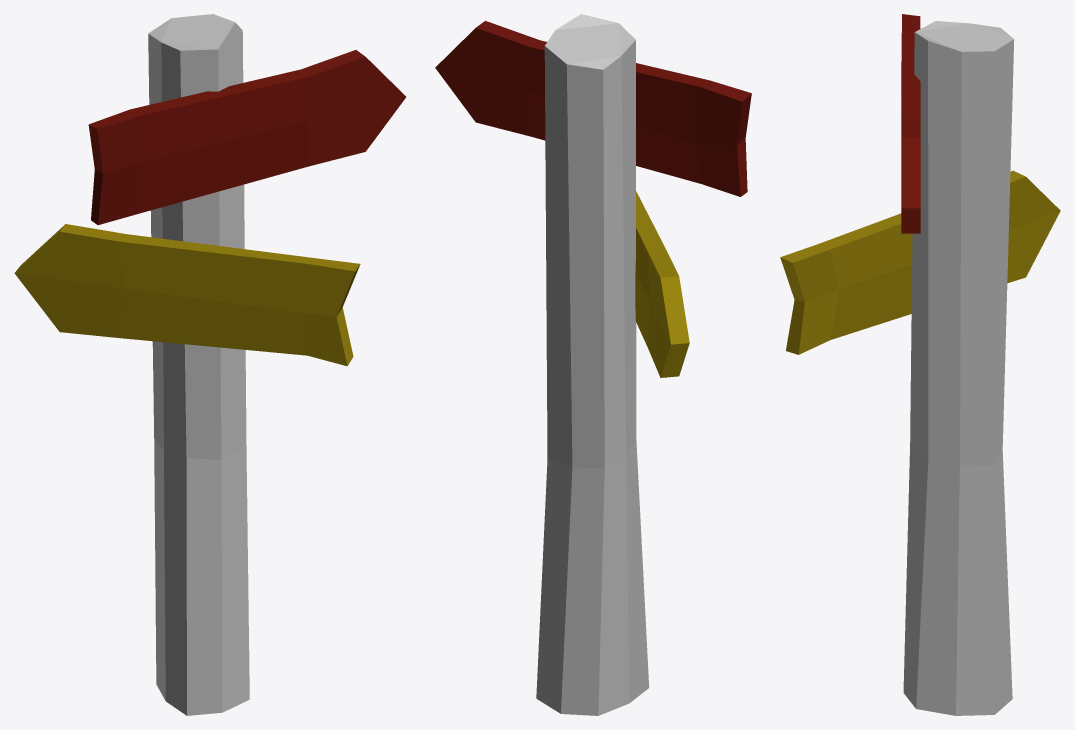
Rendered from marker2.FBX.
The picture shows the model from 3 angles, left to right: view 1: azimuth 30°, elevation 25°; view 2: azimuth 150°, elevation 25°; view 3: azimuth 270°, elevation 25°; orthographic projection.
Parts seen in each view (by area): view 1: marker; view 2: marker; view 3: marker.
Part boxes in pixels (bbox=[...]): marker: bbox=[14, 14, 405, 715]; marker: bbox=[435, 14, 751, 715]; marker: bbox=[780, 14, 1060, 715].
Bounding box in the file's own units: 109 × 217 × 82.37.
